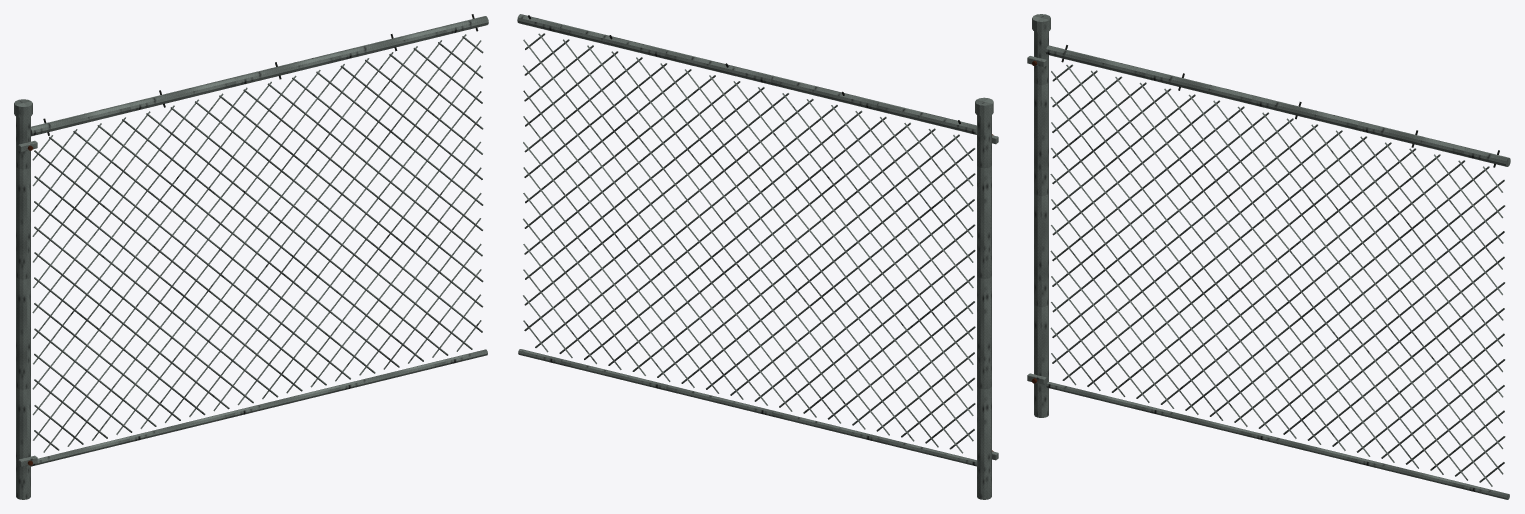
Rendered from chainlink_panel_2m.glb.
3 views of the same model, side by side, from view 1: azimuth 30°, elevation 25°; view 2: azimuth 150°, elevation 25°; view 3: azimuth 330°, elevation 25° (orthographic).
Parts seen in each view (by area): view 1: chain_panel; view 2: chain_panel; view 3: chain_panel.
Boxes of the visible parts, x1,y1,x2,y2 form: chain_panel: (14, 14, 488, 499); chain_panel: (517, 14, 998, 499); chain_panel: (1027, 14, 1510, 499).
Size of the model in its own units: 2.04 by 1.62 by 0.092.
3 materials, 3 textured.
